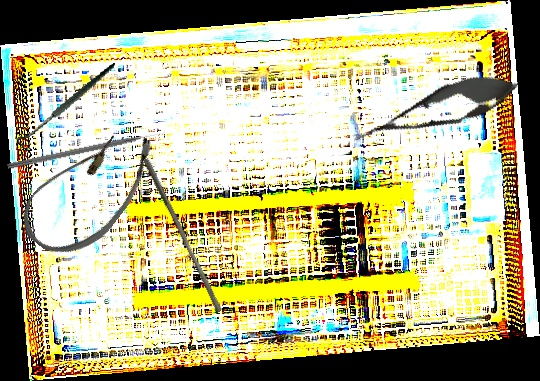Cannula: (10, 104, 168, 274)
Hook Surgical: (6, 63, 129, 153), (6, 129, 167, 171)
Micro Scissor: (346, 61, 525, 159)
Pusher: (137, 157, 228, 314)
